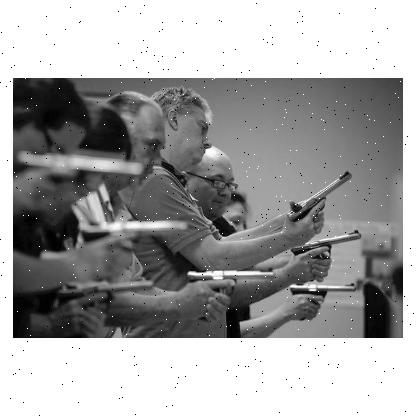gun: (16, 147, 146, 215), (77, 218, 186, 278), (56, 280, 152, 330), (285, 169, 357, 235), (186, 268, 276, 318), (289, 226, 361, 278), (289, 280, 357, 320)
